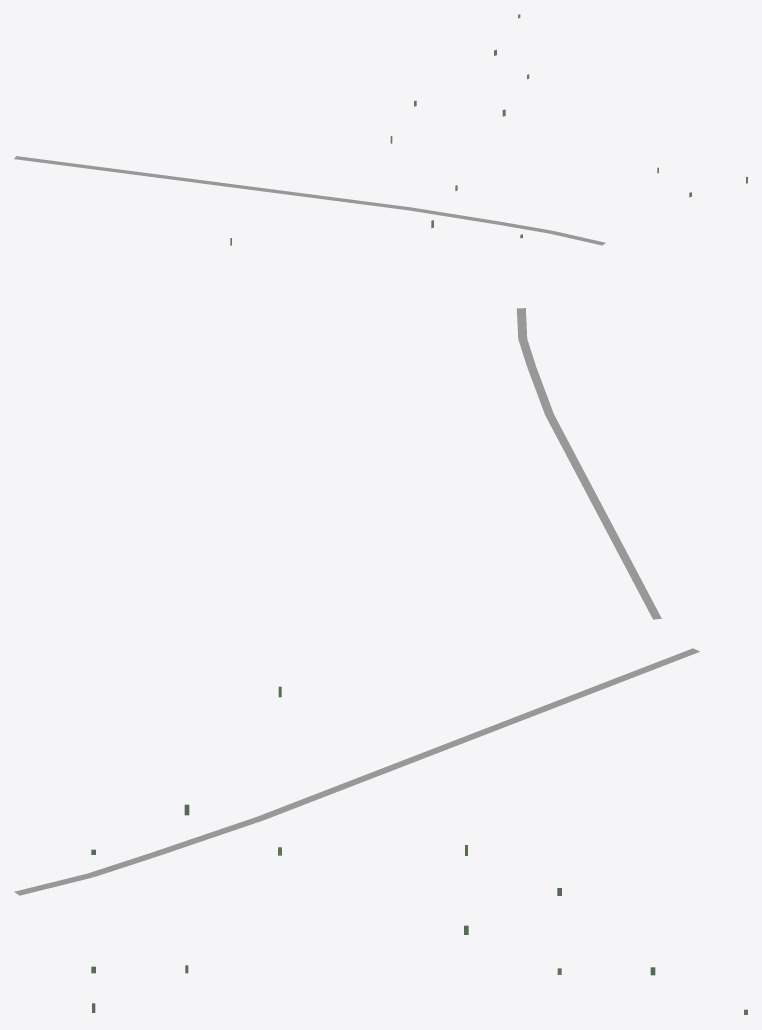
3 renders of one model, top to bottom at view 1: azimuth 30°, elevation 25°; view 2: azimuth 150°, elevation 25°; view 3: azimuth 270°, elevation 25°, orthographic. The views are drawn at different scales.
Size of the model in its own units: 559 by 9.57 by 473.
